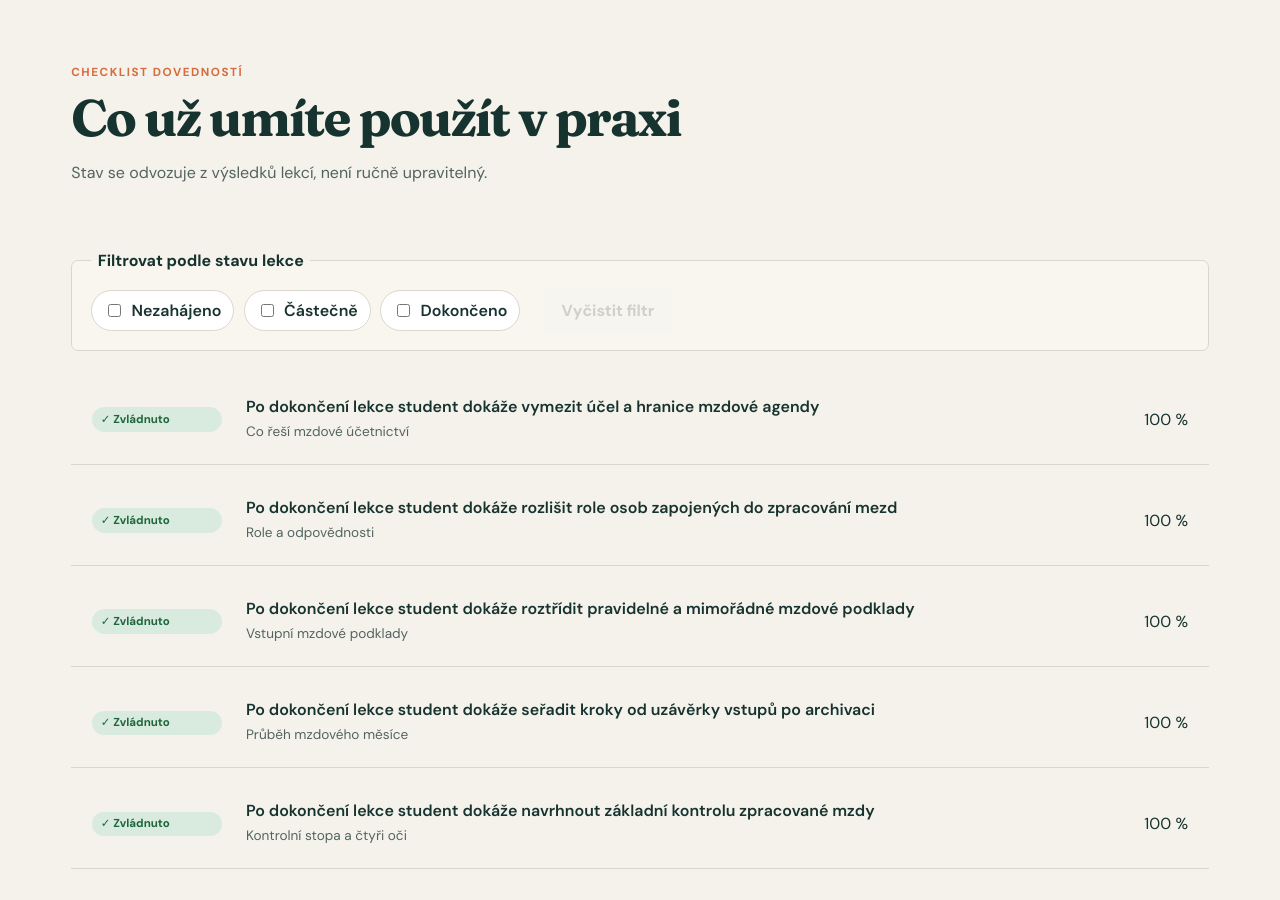
Scenario: filtr Dovedností › filtruje jednotlivě dokončené položky a zobrazuje prázdný stav
Click the checkbox labelled "Dokončeno".
click(404, 311)  # box [397,304,410,317]
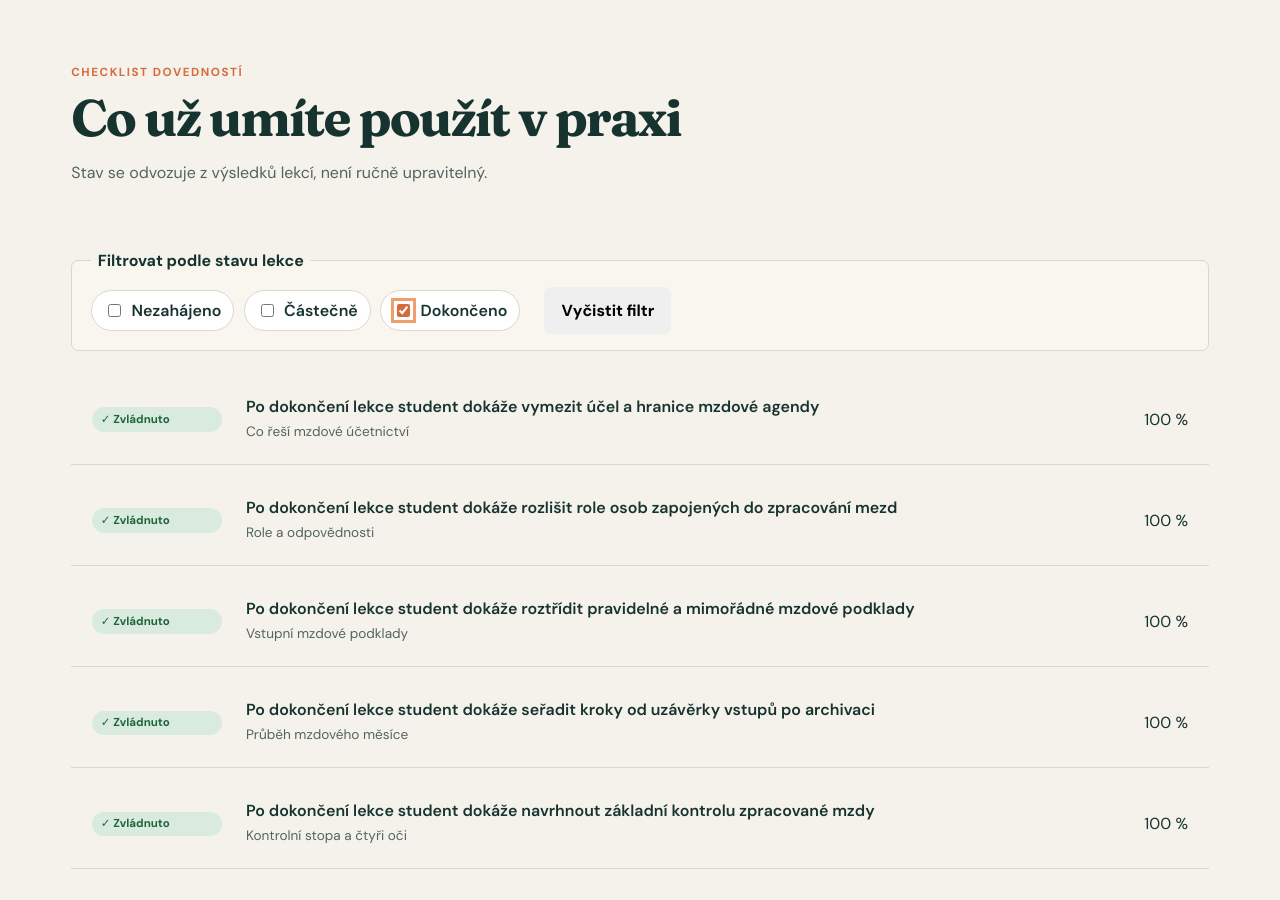
Click the checkbox labelled "Dokončeno".
click(404, 311)  # box [397,304,410,317]
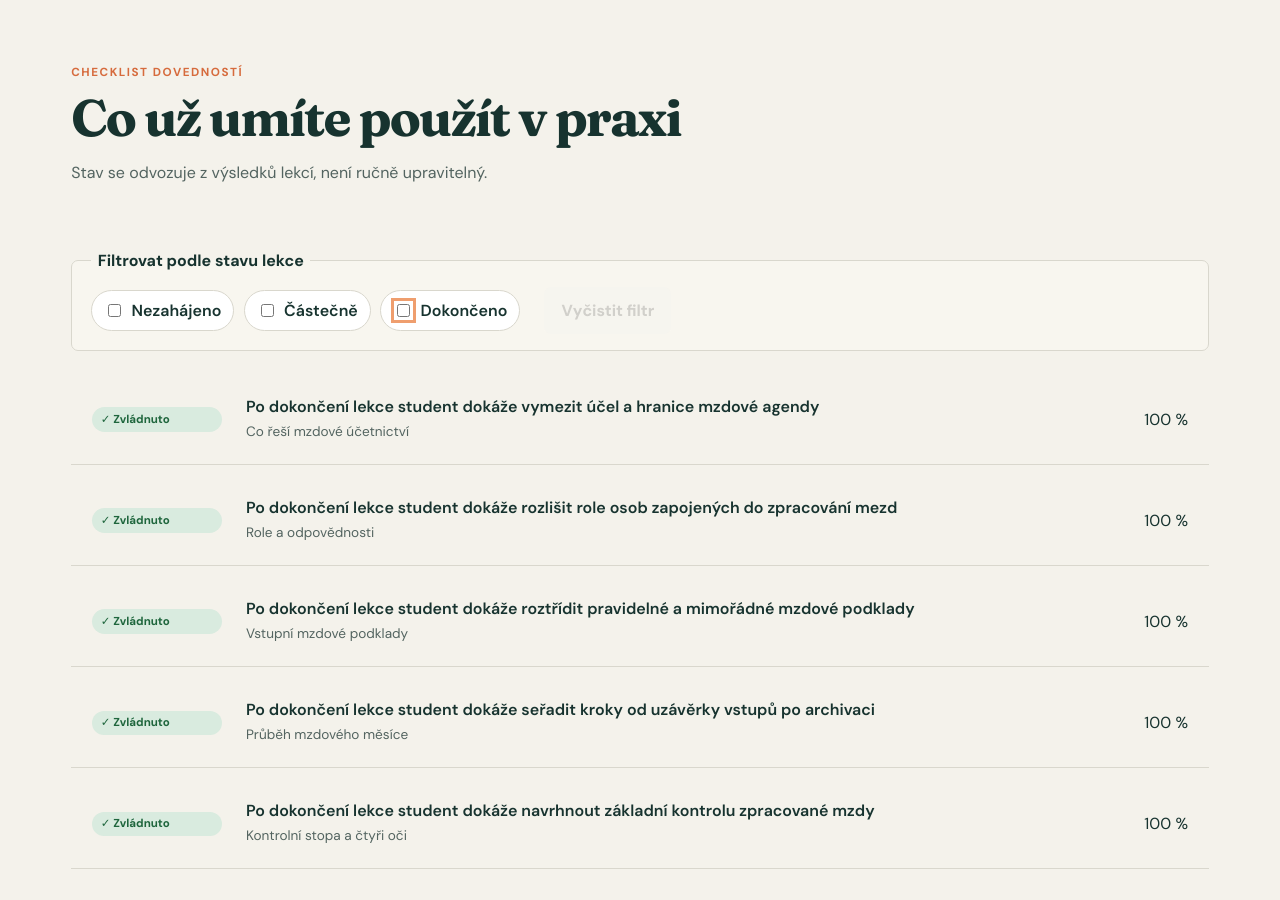
Click the checkbox labelled "Částečně".
click(267, 311)  # box [261,304,274,317]
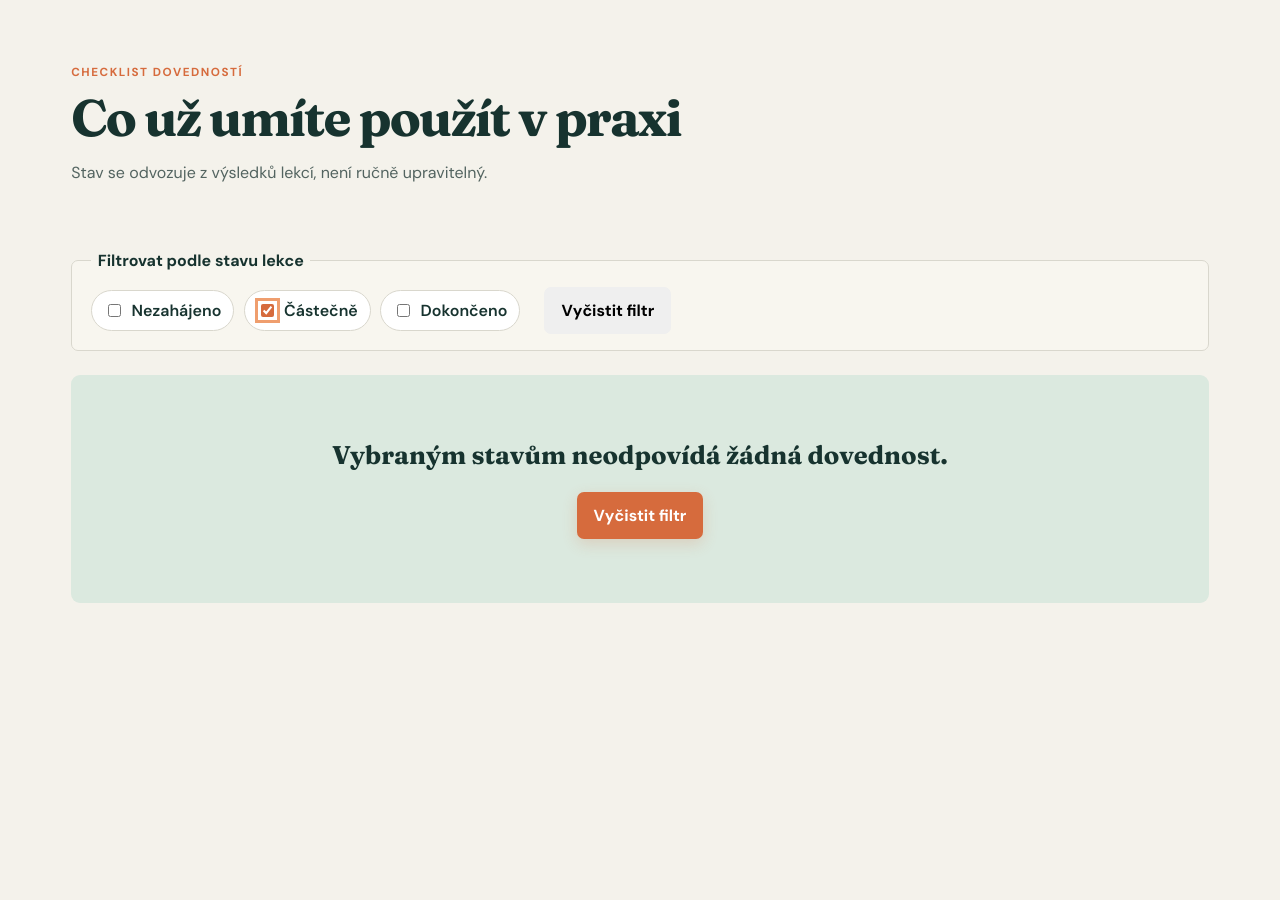
Expected: no elements with test id "skill-item" are shown
Expected: the heading "Vybraným stavům neodpovídá žádná dovednost." is shown, [332,439,948,471]
Click the 2nd button "Vyčistit filtr".
click(640, 516)  # box [577,492,703,539]
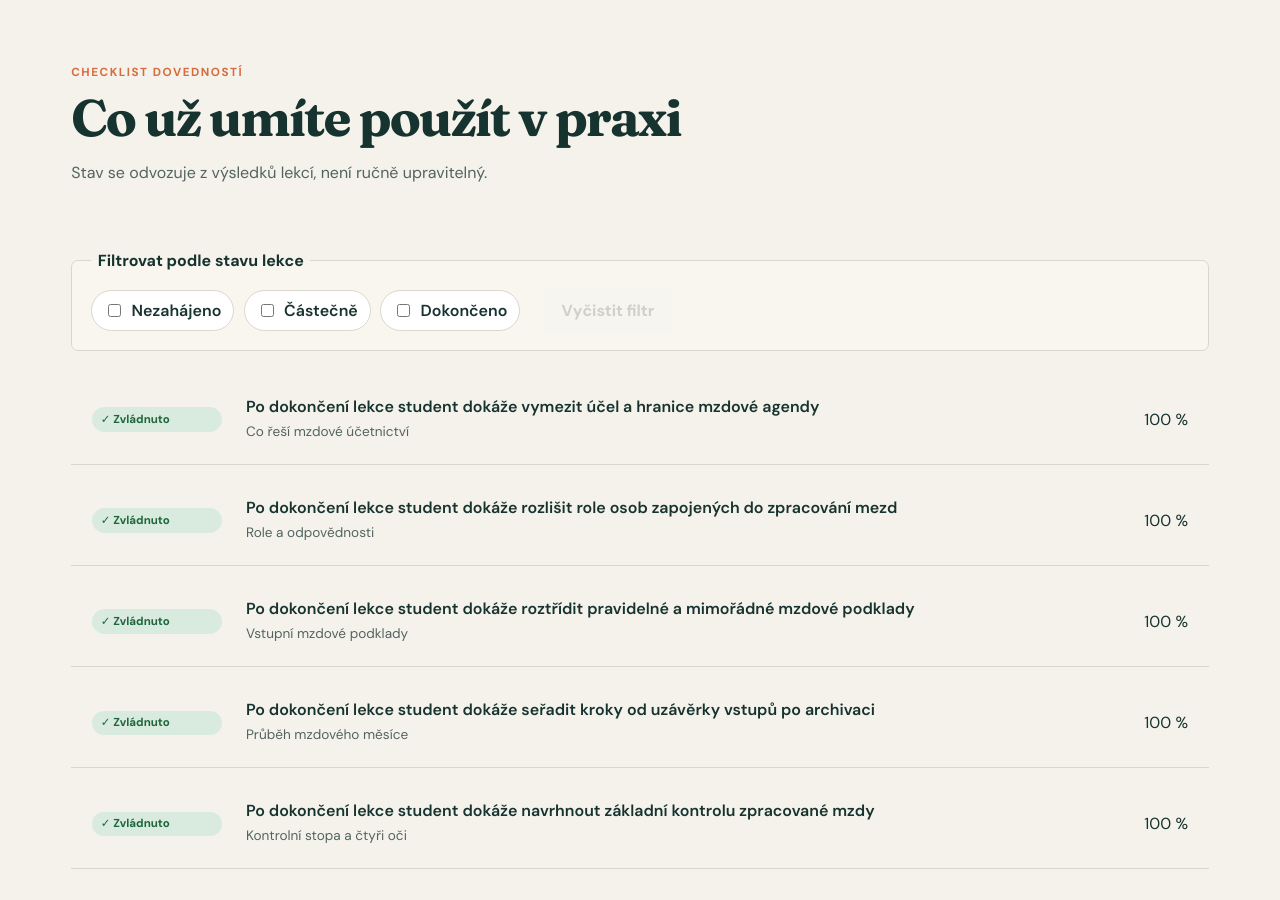
Expected: the number of elements with test id "skill-item" is 58
